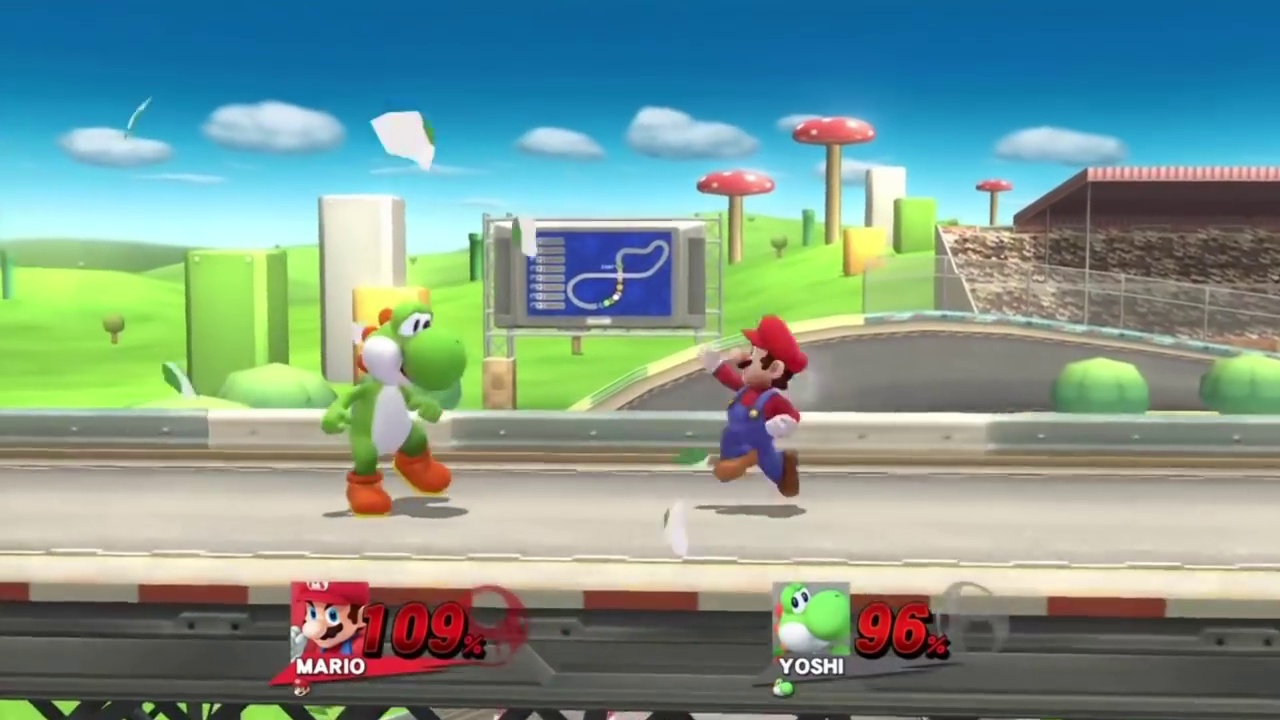Mario: (697, 316, 809, 502)
